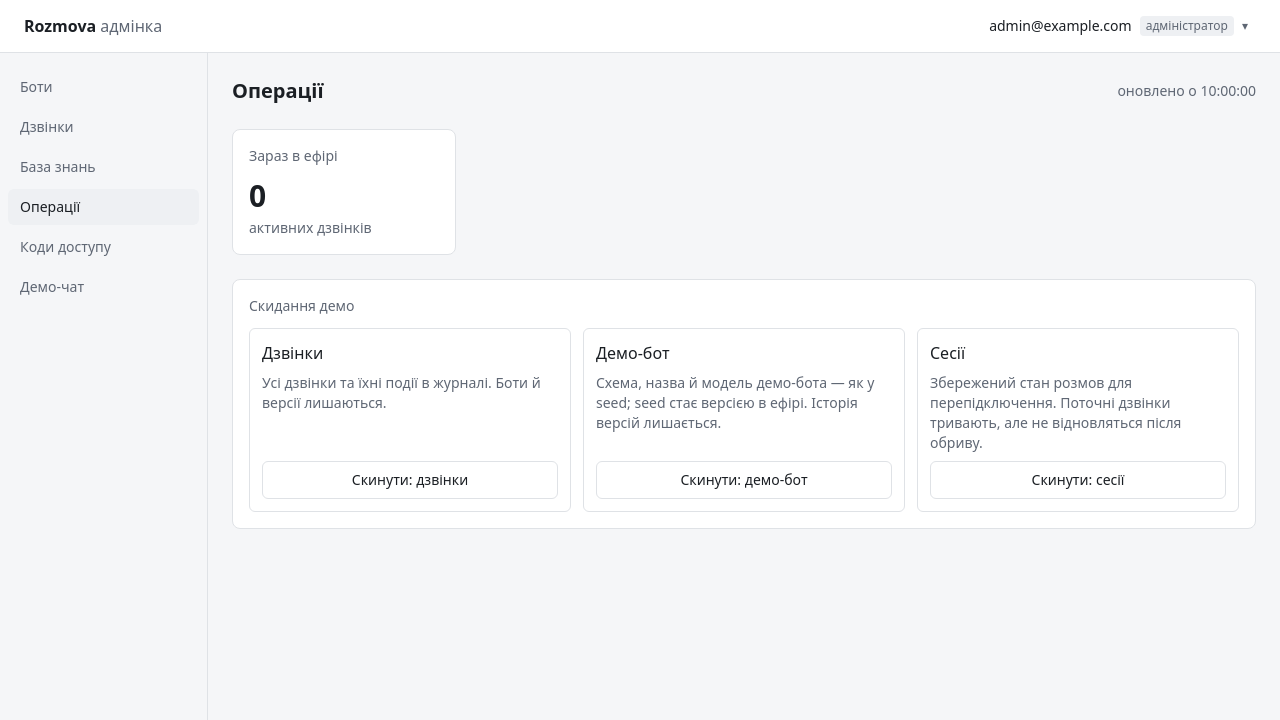
Scenario: cancel keeps the area as it is
Click the button "Скинути: сесії". click: (1078, 480)
box: [930,461,1226,499]
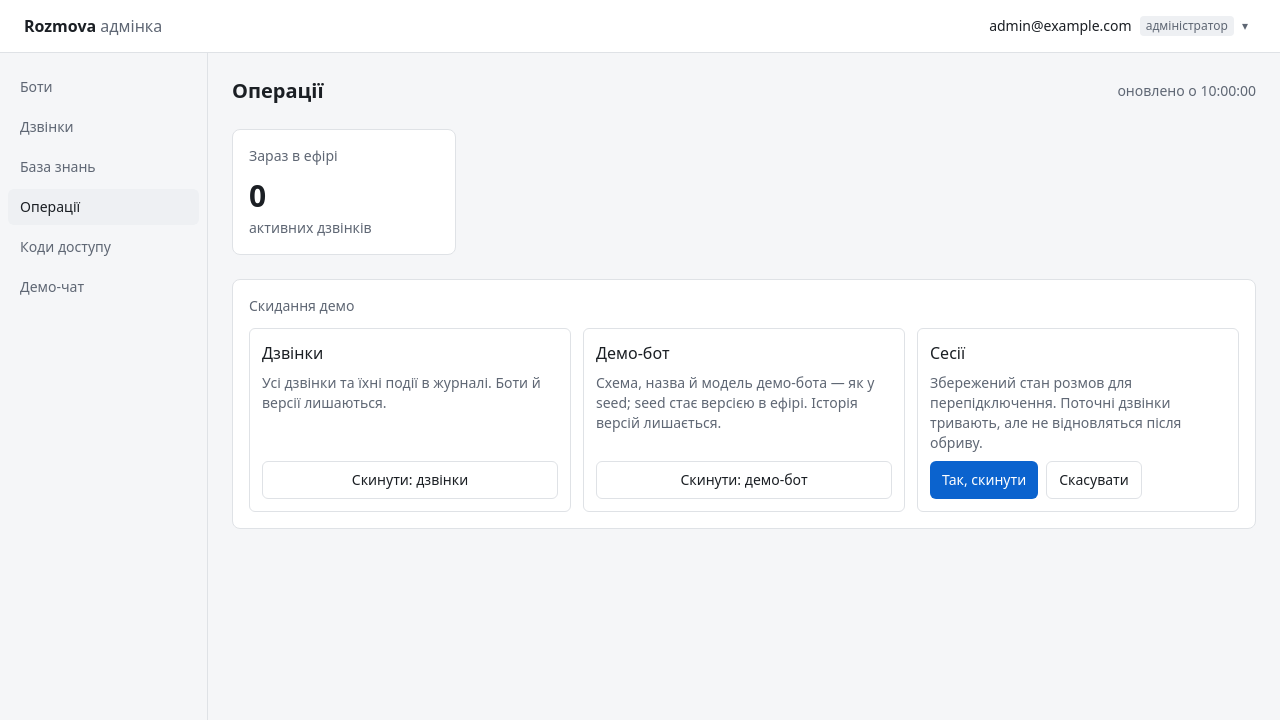
Click the button "Скасувати". click: (1094, 480)
box: [1046,461,1142,499]
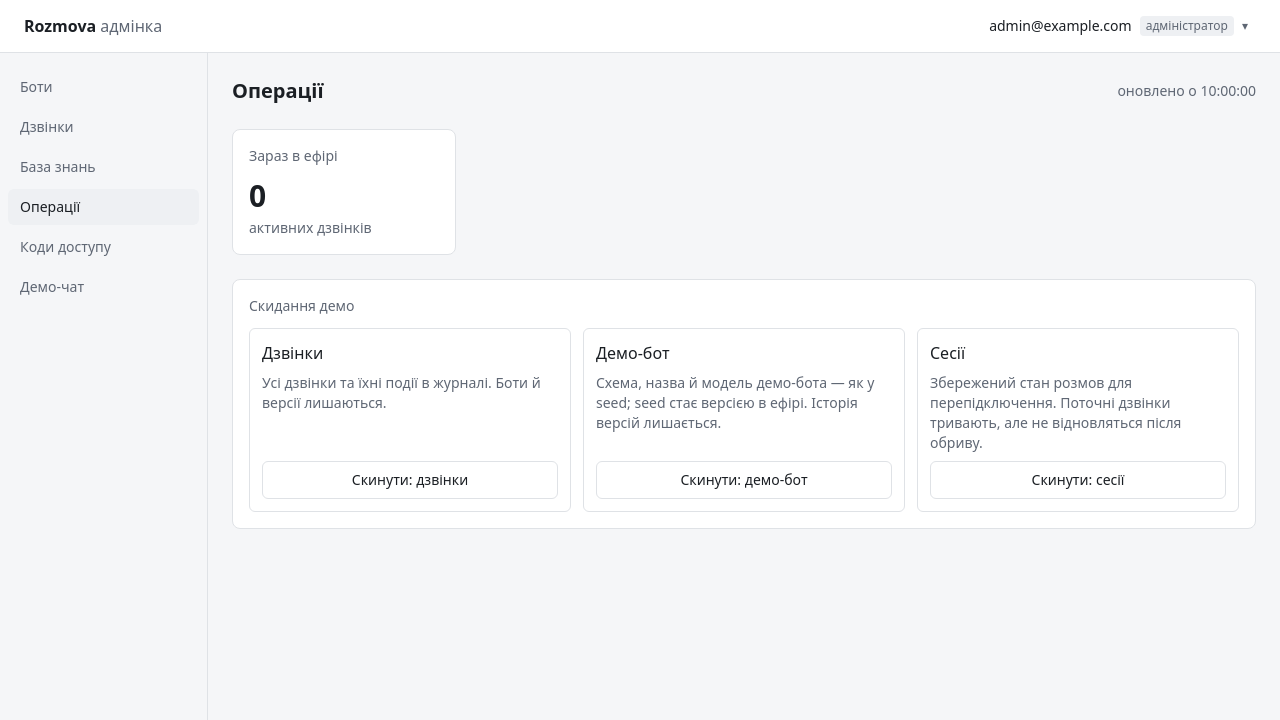
Now the button "Скинути: сесії" is shown, box [930,461,1226,499]
